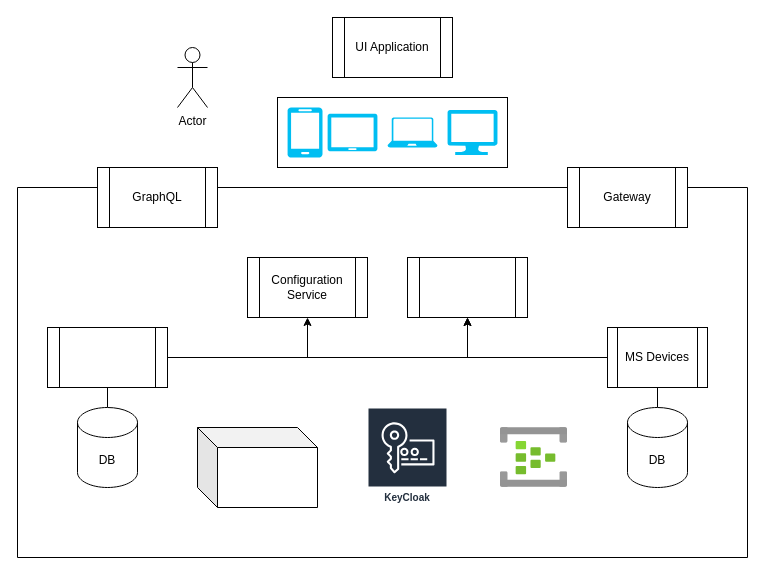
The diagram is 765 pixels wide and 575 high, and some of its shapes have lost their labels. Each missing label, with the centre of its shape:
Discovery Service: point 467,287
Docker: point 257,467
Kafka: point 533,457
MS Users: point 107,357
